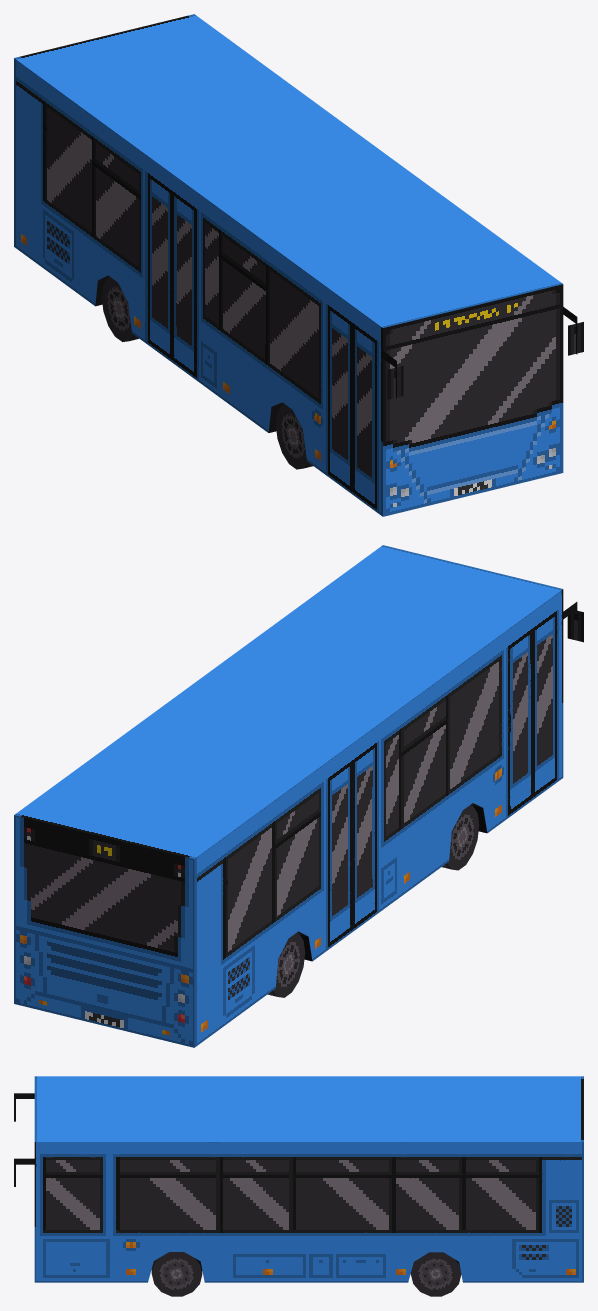
File: busv2.glb
The picture shows the model from 3 angles, top to bottom: view 1: azimuth 30°, elevation 25°; view 2: azimuth 150°, elevation 25°; view 3: azimuth 270°, elevation 25°; orthographic projection. The views are drawn at different scales.
Parts seen in each view (by area): view 1: Object_2; view 2: Object_2; view 3: Object_2.
Part boxes in pixels (x1,y1,x2,y2): Object_2: [14, 14, 583, 516]; Object_2: [14, 545, 583, 1047]; Object_2: [14, 1076, 583, 1296].
Bounding box in the file's own units: 2.18 × 2.22 × 7.35.
Materials: 3 (3 with a texture image).
